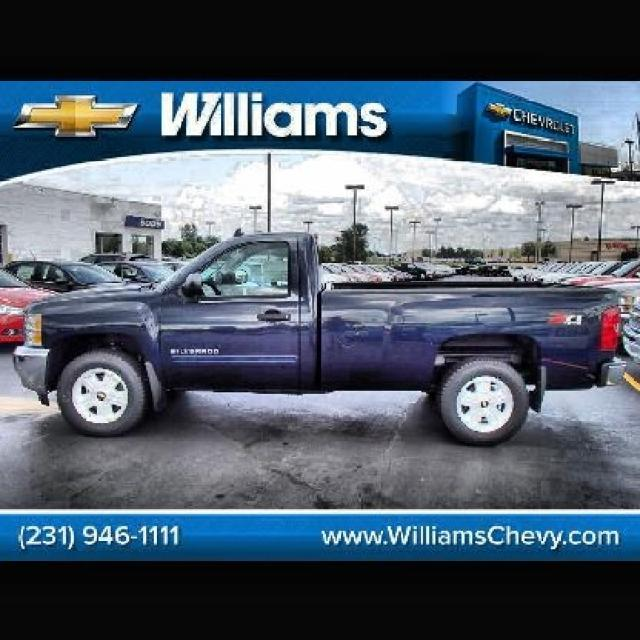blue: (18, 231, 620, 450)
